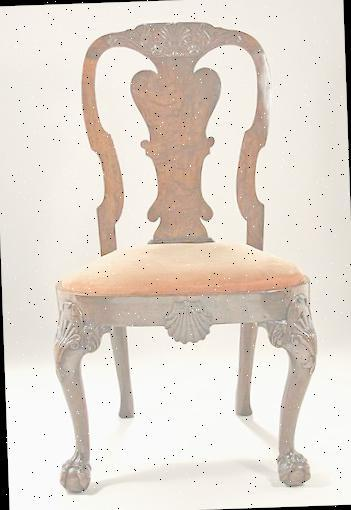Silla: (41, 19, 320, 499)
